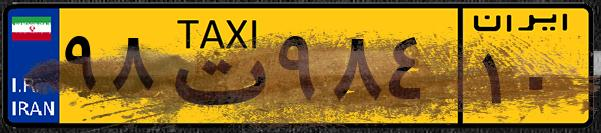0: (525, 38, 570, 115)
1: (475, 38, 525, 113)
4: (385, 28, 445, 110)
8: (330, 28, 385, 110), (110, 28, 158, 98)
9: (270, 28, 330, 110), (57, 26, 110, 100)
ت: (158, 12, 270, 120)
